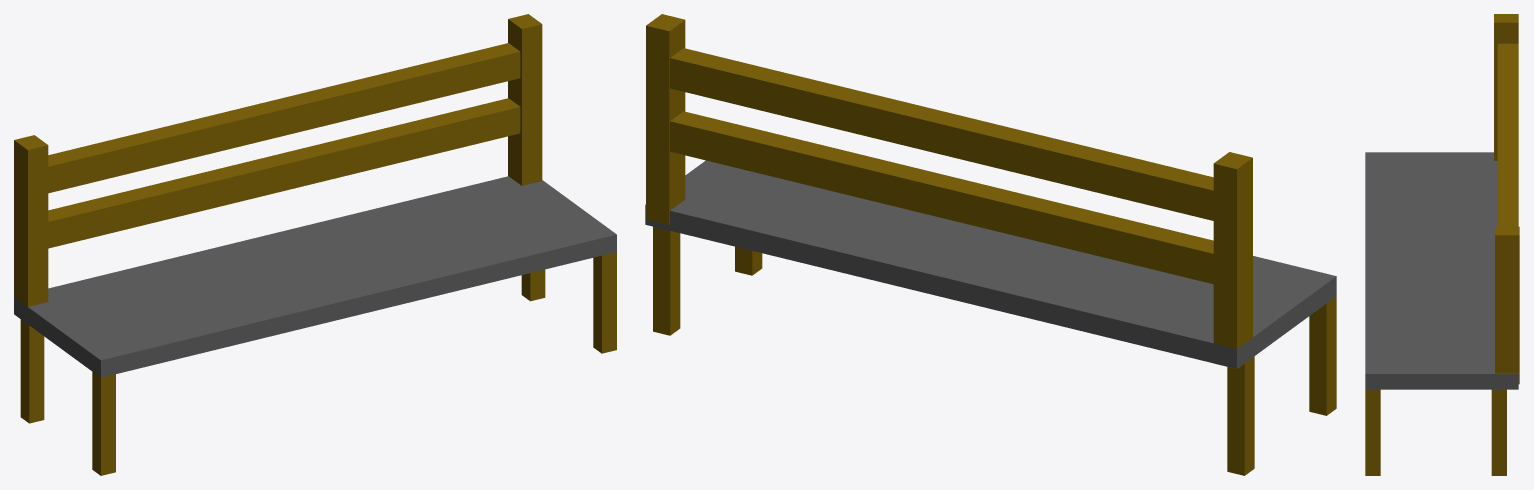
File: tall-chair.glb
3 views of the same model, side by side, from view 1: azimuth 30°, elevation 25°; view 2: azimuth 150°, elevation 25°; view 3: azimuth 270°, elevation 25° (orthographic). The views are drawn at different scales.
Visible parts, largest first — view 1: TALL CHAIR; view 2: TALL CHAIR; view 3: TALL CHAIR.
Boxes of the visible parts, x1,y1,x2,y2 form: TALL CHAIR: [14, 14, 616, 475]; TALL CHAIR: [645, 14, 1336, 475]; TALL CHAIR: [1365, 14, 1519, 475].
Size of the model in its own units: 4.41 by 2.23 by 1.29.
1 material, 1 textured.
